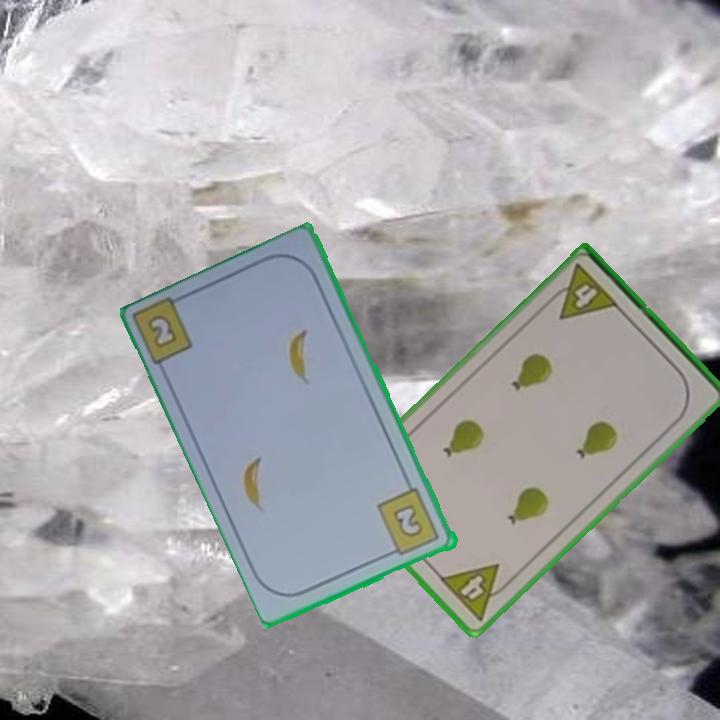2b: (374, 485, 443, 559), (147, 314, 178, 348)
4p: (435, 560, 516, 625), (543, 260, 622, 323)
